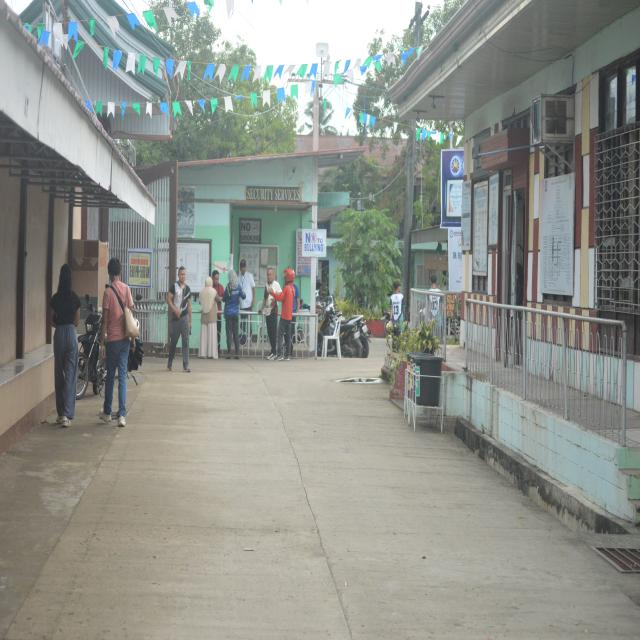person: (99, 258, 134, 426), (50, 264, 80, 427), (167, 266, 192, 372), (269, 268, 295, 360), (223, 270, 245, 359), (260, 268, 281, 359), (199, 277, 221, 358), (239, 259, 255, 340), (212, 270, 224, 354)
